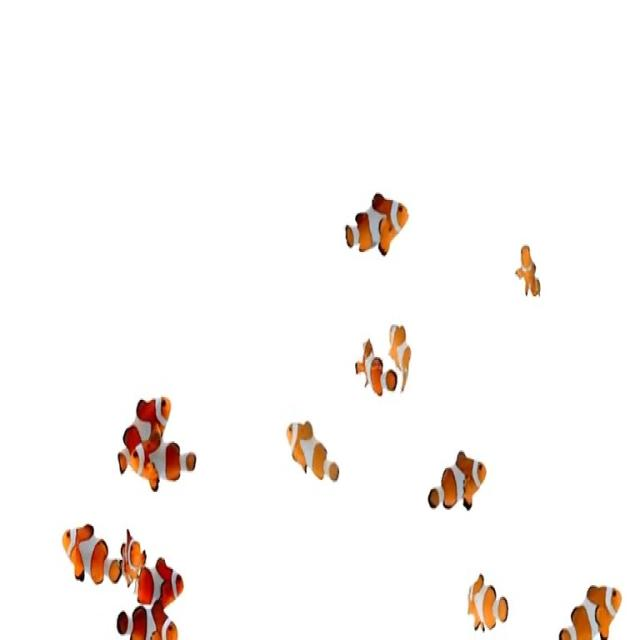fish: (344, 179, 411, 274), (58, 505, 130, 593), (114, 385, 172, 482), (428, 440, 491, 526), (286, 401, 345, 491), (130, 431, 202, 499), (559, 569, 624, 640), (132, 552, 195, 616), (463, 564, 514, 640), (355, 332, 400, 410), (113, 600, 195, 638), (514, 237, 548, 315), (384, 314, 421, 383), (114, 520, 144, 586)
